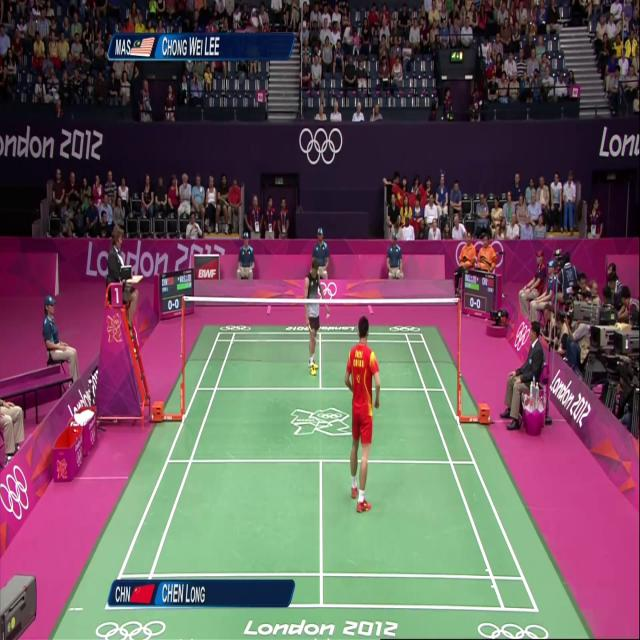Net: (180, 299, 462, 367)
Player1: (342, 315, 386, 522)
Player2: (300, 252, 329, 376)
Shuttlecock: (322, 308, 333, 322)
